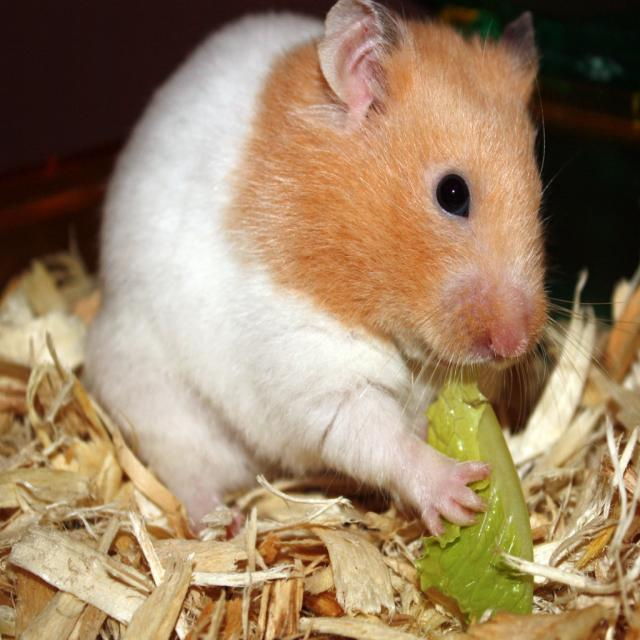rat: (78, 0, 551, 534)
